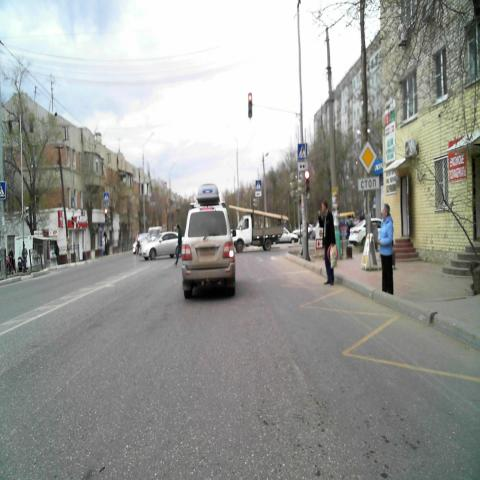6_16: (358, 177, 380, 189)
8_15: (298, 160, 308, 170)
